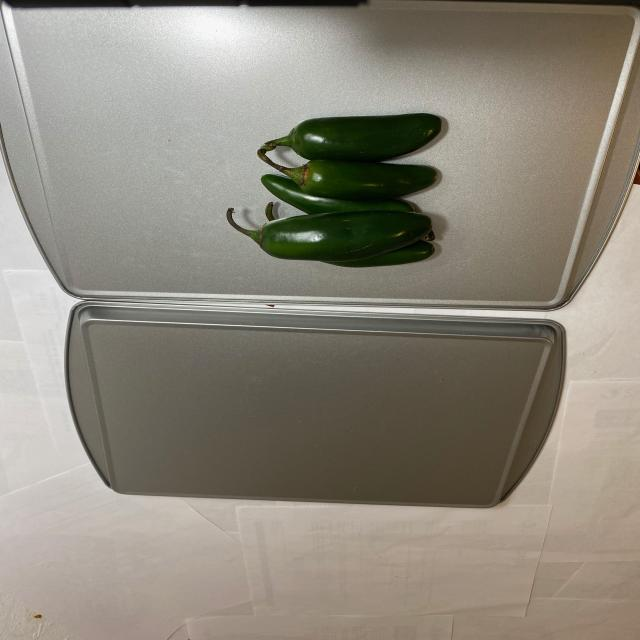chilli: (218, 96, 463, 277)
